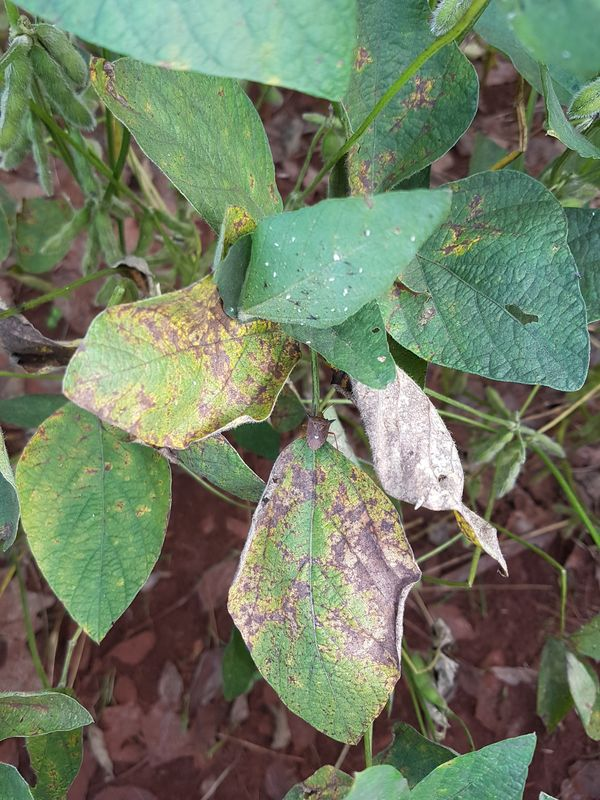Euschistus_heros_adulto: (295, 406, 344, 464)
